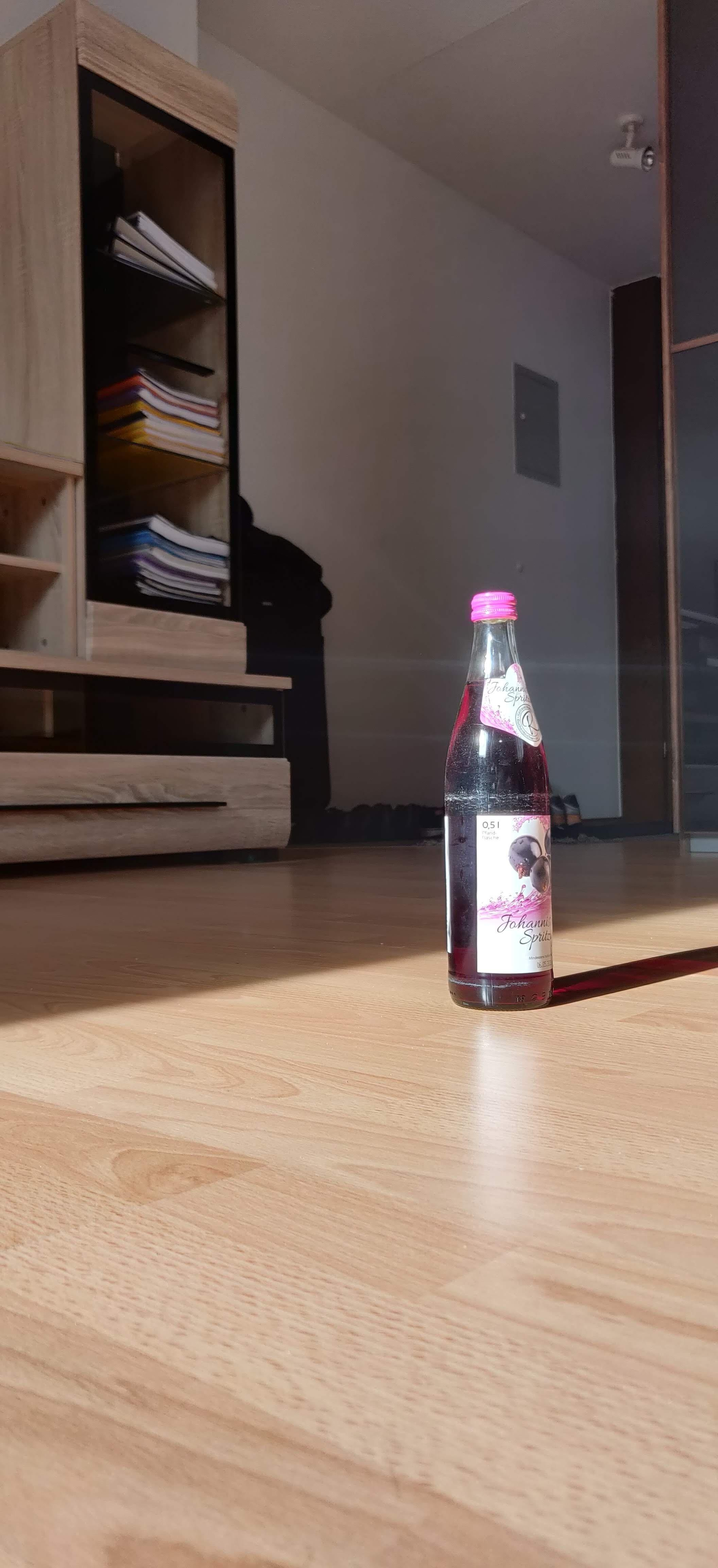bottle-glass: (441, 586, 554, 1010)
